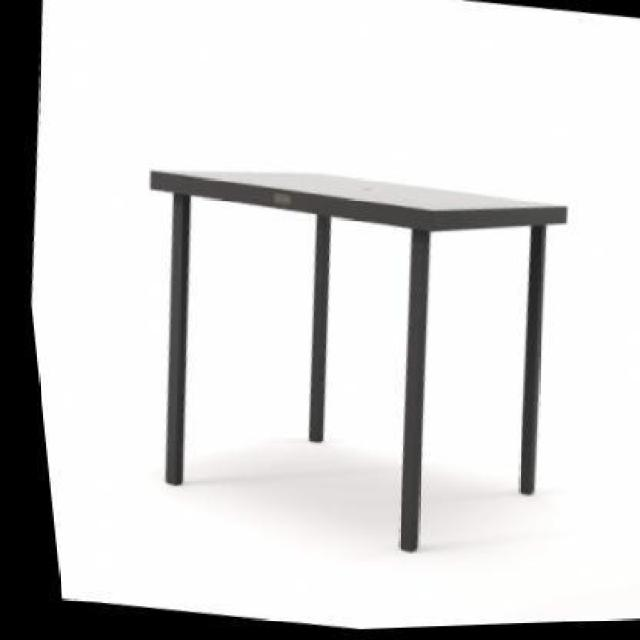tables: (148, 166, 568, 552)
